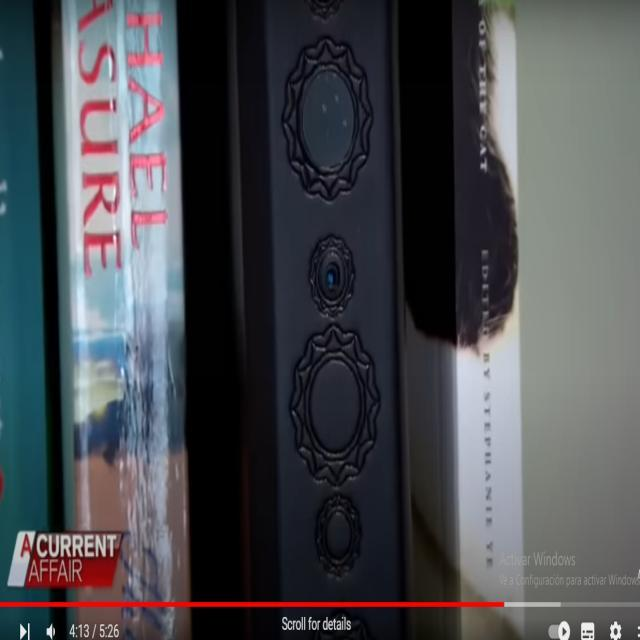hidden camera: (324, 262, 342, 293)
